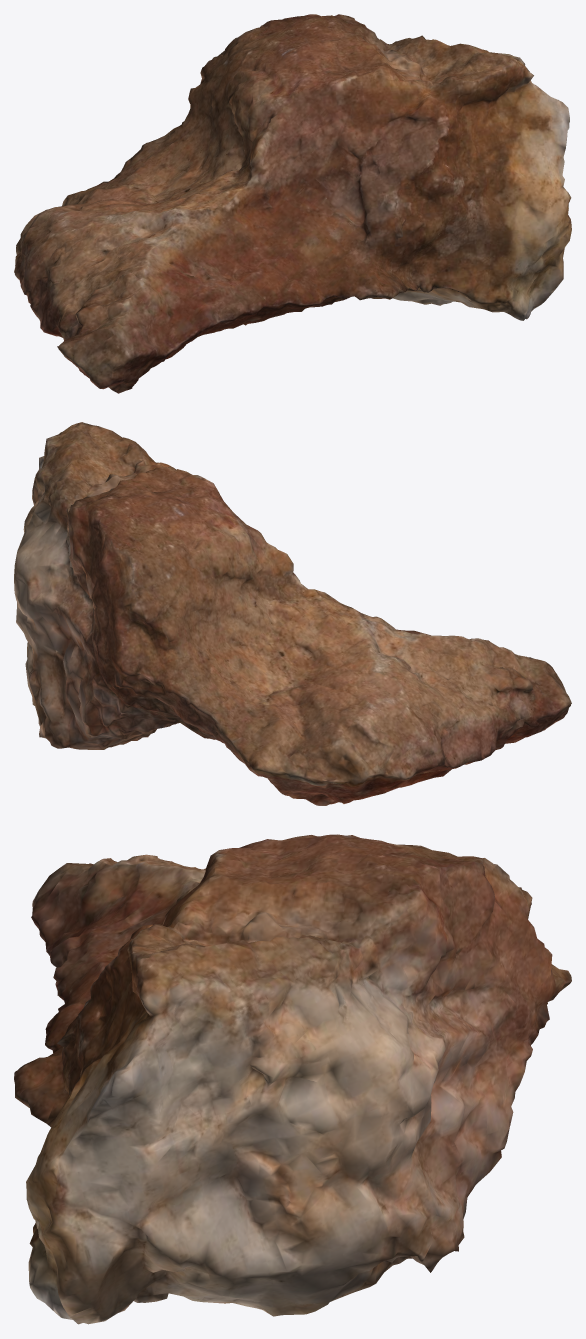
File: stone_01.glb
The picture shows the model from 3 angles, top to bottom: view 1: azimuth 30°, elevation 25°; view 2: azimuth 150°, elevation 25°; view 3: azimuth 270°, elevation 25°; orthographic projection. The views are drawn at different scales.
Parts seen in each view (by area): view 1: stone_01; view 2: stone_01; view 3: stone_01.
Boxes of the visible parts, x1,y1,x2,y2 form: stone_01: [14, 14, 571, 393]; stone_01: [14, 422, 571, 805]; stone_01: [14, 834, 571, 1324].
Size of the model in its own units: 0.1469 by 0.0718 by 0.089.
Materials: 1 (1 with a texture image).
